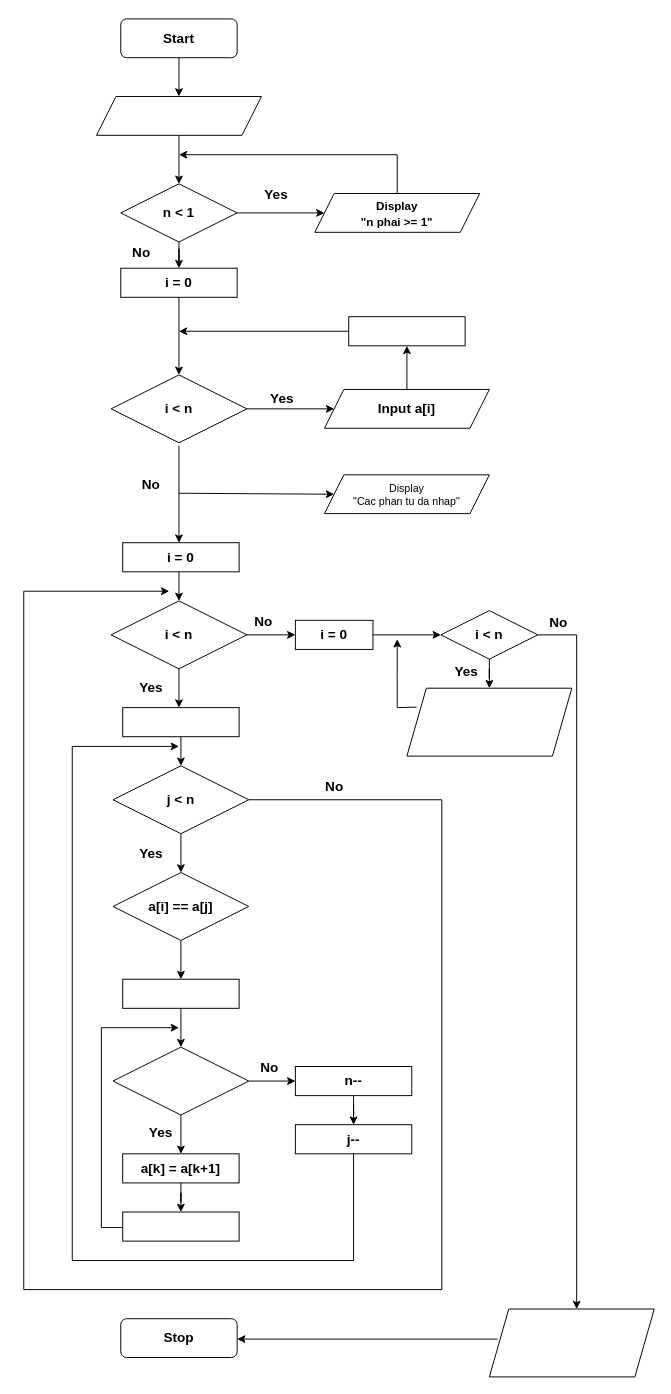
Image size: 671x1394. Some labels were removed from this diagram. Here are the shapes that lost their labels. From the top down, the centre of each, then its label:
[178,115]: Input n
[406,331]: i++
[180,722]: j = i + 1
[489,721]: Display "a[i] sau khi xoa cac pt trung nhau"
[180,993]: k = j
[180,1080]: k < n - 1
[180,1226]: k++
[571,1342]: Display "Mang sau khi xoa cac pt trung nhau"
